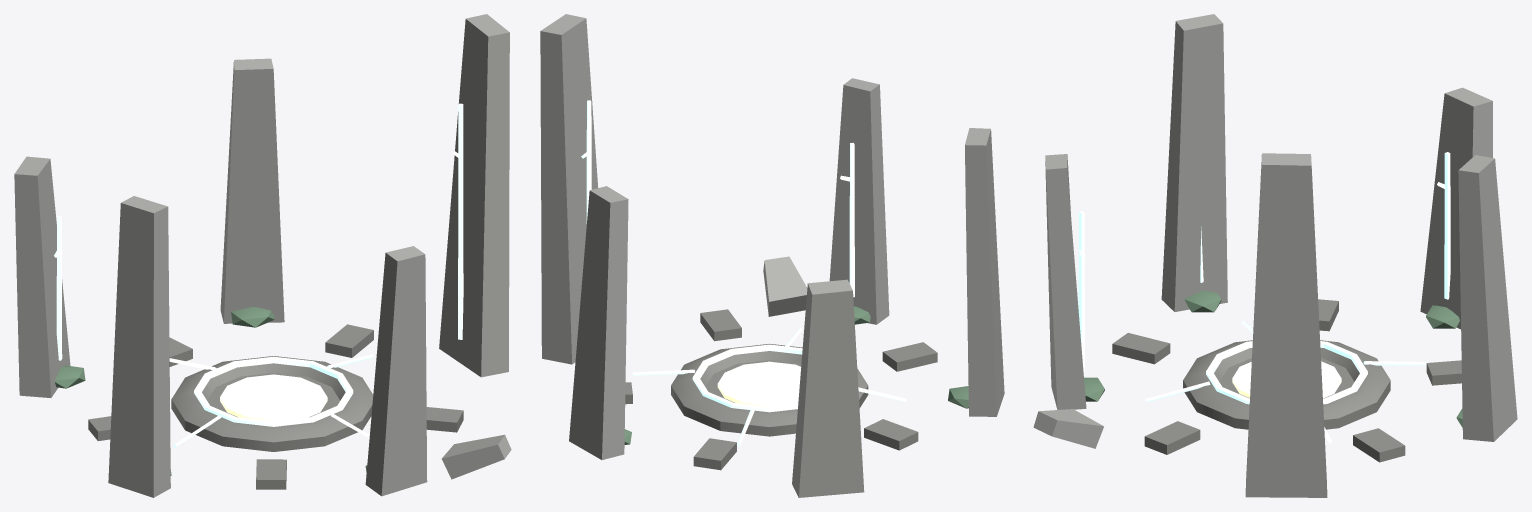
Rendered from wellstone_restored.glb.
3 views of the same model, side by side, from view 1: azimuth 30°, elevation 25°; view 2: azimuth 150°, elevation 25°; view 3: azimuth 270°, elevation 25° (orthographic). The views are drawn at different scales.
Visible parts, largest first — view 1: wellstone_restored; view 2: wellstone_restored; view 3: wellstone_restored.
Boxes of the visible parts, x1=… form: wellstone_restored: x1=14, y1=14, x2=511, y2=497; wellstone_restored: x1=540, y1=14, x2=1004, y2=497; wellstone_restored: x1=1033, y1=14, x2=1517, y2=497.
Bounding box in the file's own units: 4.57 × 3.52 × 4.43.
